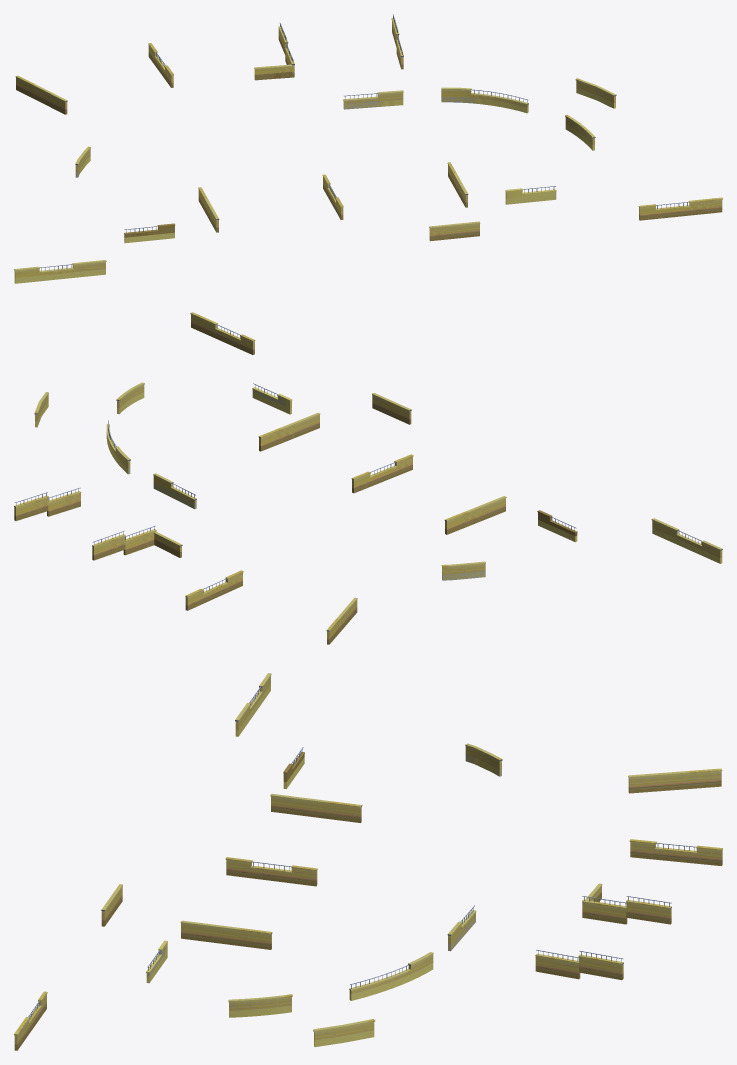
The model's file is objects_un_t02fence01.gltf.
The picture shows the model from 3 angles, top to bottom: view 1: azimuth 30°, elevation 25°; view 2: azimuth 150°, elevation 25°; view 3: azimuth 270°, elevation 25°; orthographic projection. The views are drawn at different scales.
Visible parts, largest first — view 1: nomerge_objects_un_t02fence01_mesh_shape:objects_un_t02fence; view 2: nomerge_objects_un_t02fence01_mesh_shape:objects_un_t02fence; view 3: nomerge_objects_un_t02fence01_mesh_shape:objects_un_t02fence.
Part boxes in pixels (x1=…): nomerge_objects_un_t02fence01_mesh_shape:objects_un_t02fence: x1=14, y1=14, x2=722, y2=283; nomerge_objects_un_t02fence01_mesh_shape:objects_un_t02fence: x1=14, y1=312, x2=722, y2=644; nomerge_objects_un_t02fence01_mesh_shape:objects_un_t02fence: x1=14, y1=673, x2=722, y2=1050.
Size of what is drawn, in the model's own units: 103 by 5.67 by 82.87.
1 material, 1 textured.
